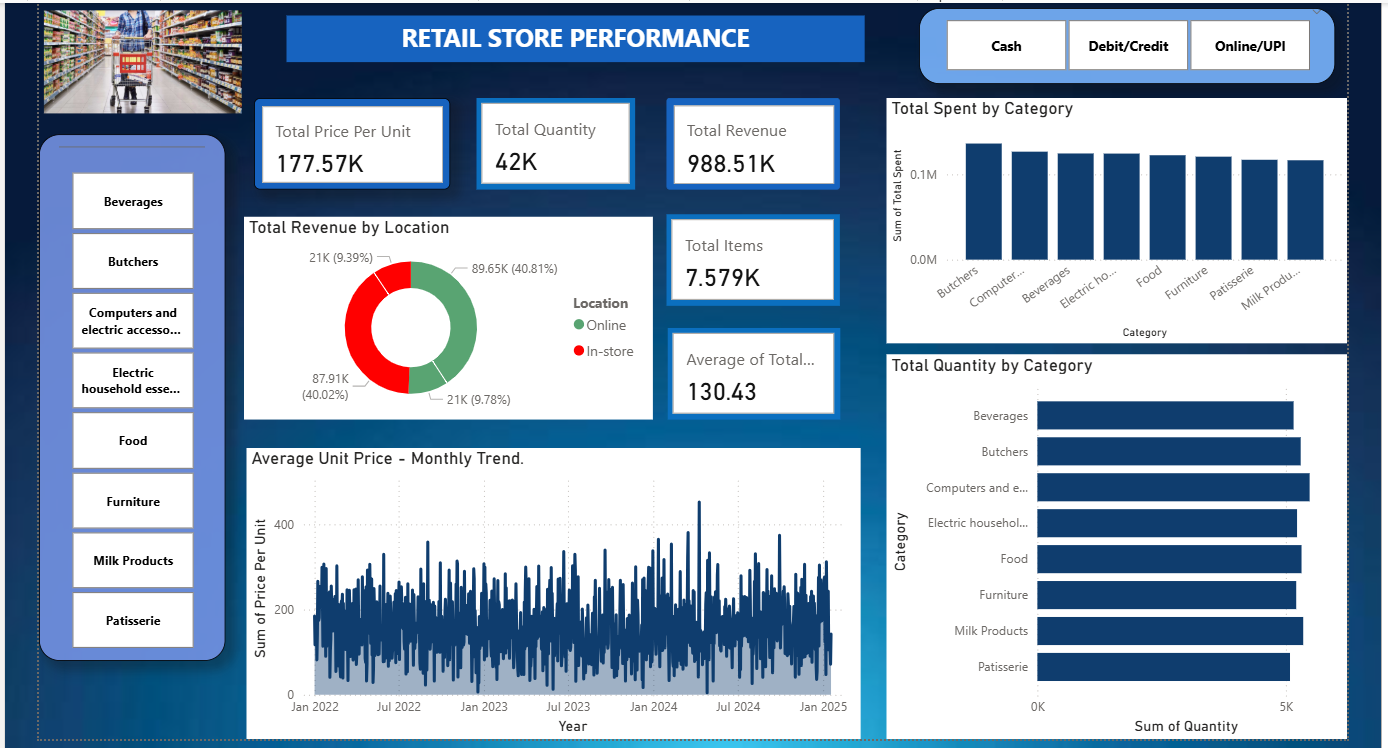

This screenshot's page, from the dashboard's own definition file:
{"tool":"powerbi","page":{"name":"Page 1","canvas":[1280,720],"ordinal":0},"visuals":[{"type":"textbox","box":[241.5,12.3,565.4,45.3],"z":0},{"type":"slicer","fields":{"Values":["cleaned_pandas_dataset.Category"]},"box":[0,128.4,182.2,514.8],"z":1000},{"type":"slicer","fields":{"Values":["cleaned_pandas_dataset.Payment Method"]},"box":[860.4,5.5,407.5,74.1],"z":2000},{"type":"lineStackedColumnComboChart","title":"Total Spent by Category","fields":{"Category":["cleaned_pandas_dataset.Category"],"Y":["Sum(cleaned_pandas_dataset.Total Spent)"]},"box":[828.8,93.3,451.5,240.1],"z":3000},{"type":"cardVisual","fields":{"Data":["Sum(cleaned_pandas_dataset.Total Spent)"]},"box":[613.9,92.9,170,89.3],"z":4000},{"type":"cardVisual","fields":{"Data":["Sum(cleaned_pandas_dataset.Price Per Unit)"]},"box":[210.3,92.9,192,89.3],"z":5000},{"type":"cardVisual","fields":{"Data":["Sum(cleaned_pandas_dataset.Quantity)"]},"box":[428,92.9,155.3,89.3],"z":6000},{"type":"donutChart","title":"Total Revenue by Location","fields":{"Category":["cleaned_pandas_dataset.Location"],"Y":["Sum(cleaned_pandas_dataset.Price Per Unit)","Sum(cleaned_pandas_dataset.Quantity)"]},"box":[200.5,209.1,399.9,198.1],"z":7000},{"type":"areaChart","title":"Average Unit Price - Monthly Trend.","fields":{"Category":["cleaned_pandas_dataset.Transaction Date.Variation.Date Hierarchy.Year","cleaned_pandas_dataset.Transaction Date.Variation.Date Hierarchy.Quarter","cleaned_pandas_dataset.Transaction Date.Variation.Date Hierarchy.Month","cleaned_pandas_dataset.Transaction Date.Variation.Date Hierarchy.Day"],"Y":["Sum(cleaned_pandas_dataset.Price Per Unit)"]},"box":[203.1,435,601,285.4],"z":8000},{"type":"barChart","title":"Total Quantity by Category","fields":{"Category":["cleaned_pandas_dataset.Category","cleaned_pandas_dataset.Transaction Date.Variation.Date Hierarchy.Year","cleaned_pandas_dataset.Transaction Date.Variation.Date Hierarchy.Quarter","cleaned_pandas_dataset.Transaction Date.Variation.Date Hierarchy.Month","cleaned_pandas_dataset.Transaction Date.Variation.Date Hierarchy.Day"],"Y":["Sum(cleaned_pandas_dataset.Quantity)"]},"box":[828.8,343.1,451.5,377.4],"z":9000},{"type":"cardVisual","fields":{"Data":["CountNonNull(cleaned_pandas_dataset.Item)"]},"box":[613.9,206.7,170,89.3],"z":10000},{"type":"image","box":[0,0,203.1,115.3],"z":11000},{"type":"cardVisual","fields":{"Data":["Avg(cleaned_pandas_dataset.Total Spent)"]},"box":[615.1,317.9,168.8,89.3],"z":11001}]}

Visuals, with their boxes in screenshot pixels (x1, y1, x2, y2):
textbox: rect(280, 13, 859, 59)
slicer - cleaned_pandas_dataset.Category: rect(33, 132, 219, 659)
slicer - cleaned_pandas_dataset.Payment Method: rect(914, 6, 1332, 82)
"Total Spent by Category" lineStackedColumnComboChart: rect(882, 96, 1345, 342)
cardVisual - Sum(cleaned_pandas_dataset.Total Spent): rect(662, 95, 836, 187)
cardVisual - Sum(cleaned_pandas_dataset.Price Per Unit): rect(248, 95, 445, 187)
cardVisual - Sum(cleaned_pandas_dataset.Quantity): rect(471, 95, 630, 187)
"Total Revenue by Location" donutChart: rect(238, 214, 648, 417)
"Average Unit Price - Monthly Trend." areaChart: rect(241, 446, 857, 738)
"Total Quantity by Category" barChart: rect(882, 352, 1345, 738)
cardVisual - CountNonNull(cleaned_pandas_dataset.Item): rect(662, 212, 836, 303)
image: rect(33, 0, 241, 118)
cardVisual - Avg(cleaned_pandas_dataset.Total Spent): rect(663, 326, 836, 417)
